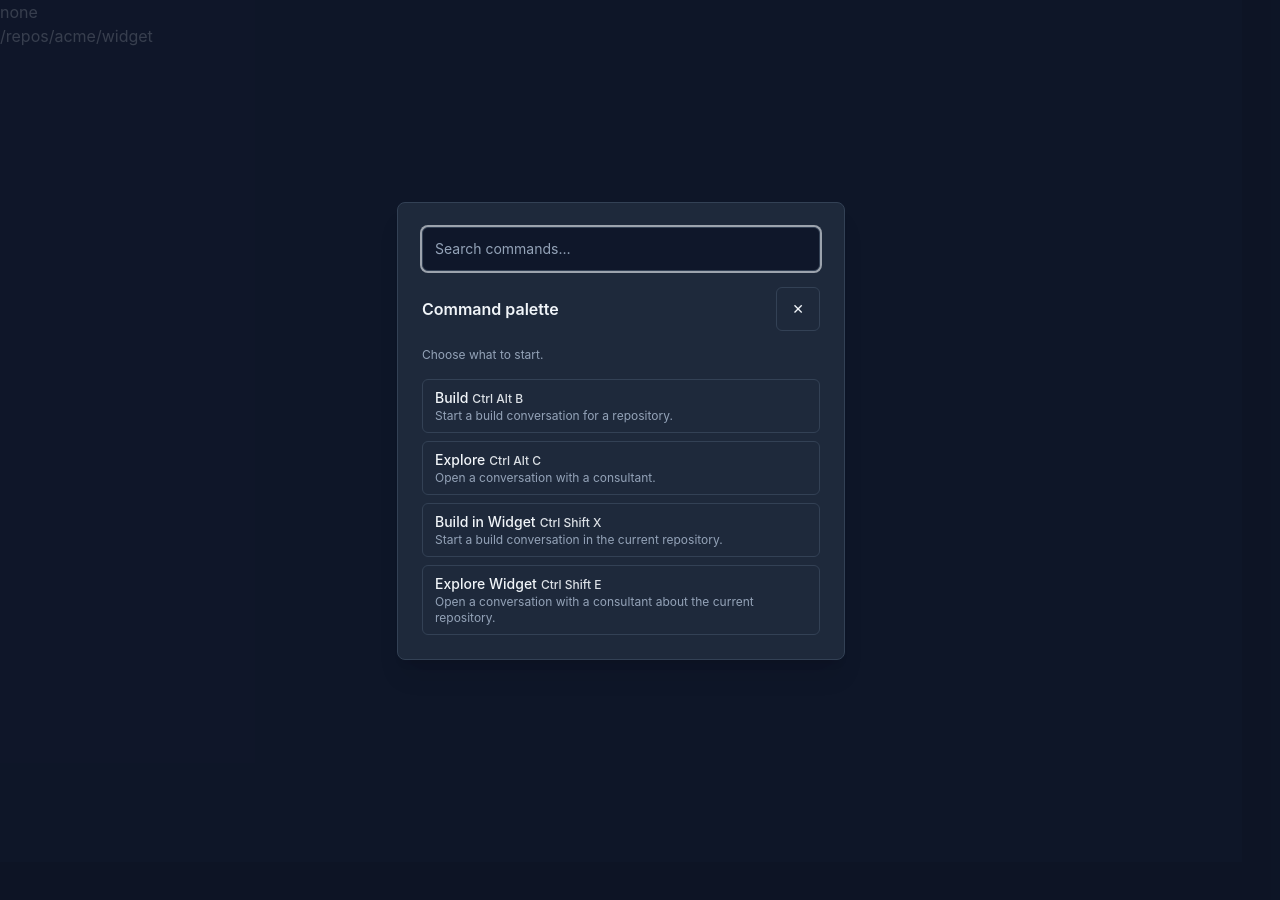
Test: CommandPalette — root step with a current repository › filters the scoped commands by label
The width and height of the screenshot is (1280, 900).
Expected: the button with test id "palette-command-build-scoped" is shown, [422,503,820,557]
Type "build in" into the field with test id "list-chooser-filter" at (621, 249), box [422,227,820,271]
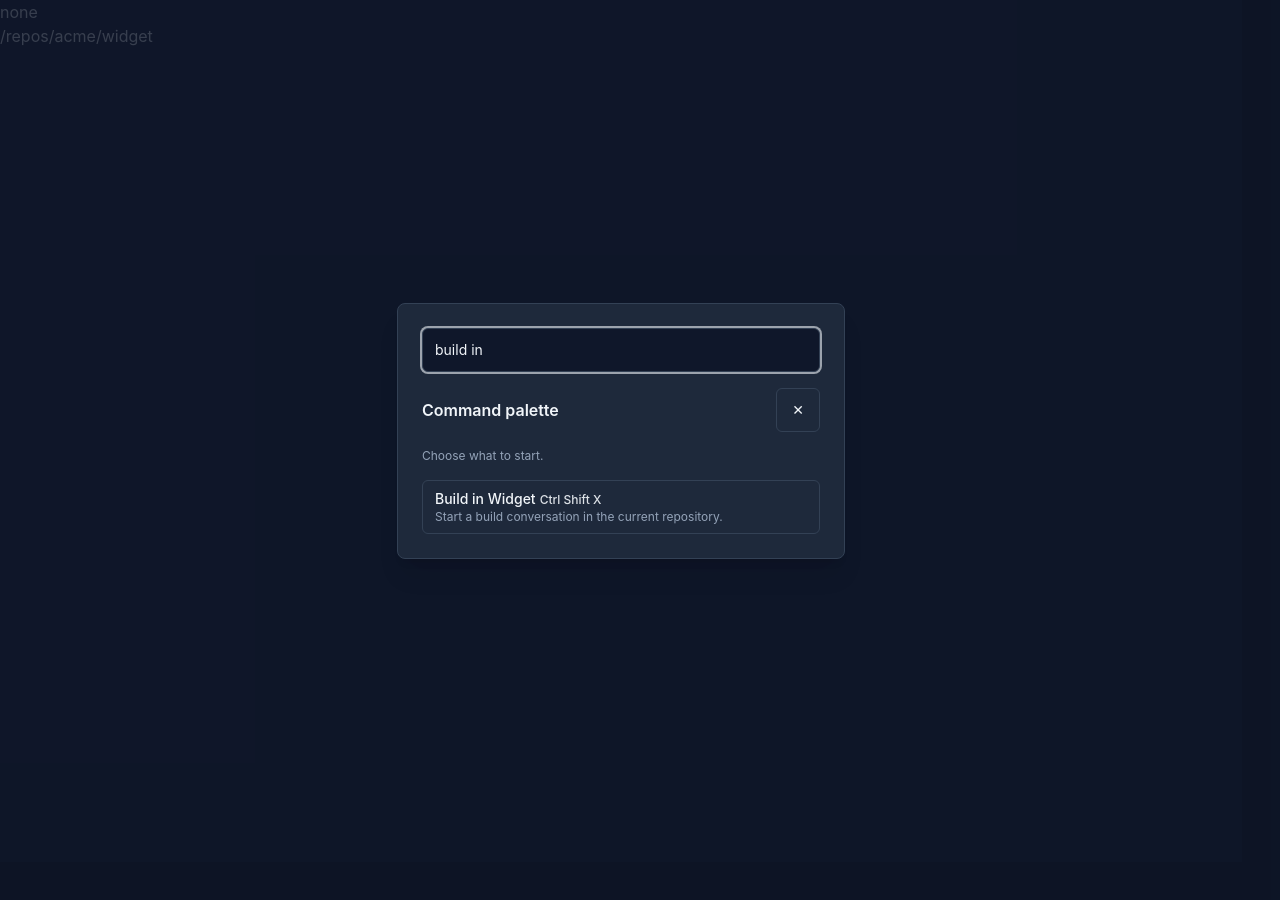
Expected: the button with test id "palette-command-build-scoped" is shown, [422,480,820,534]
Expected: the button with test id "palette-command-explore-scoped" is gone
Expected: the button with test id "palette-command-build" is gone
